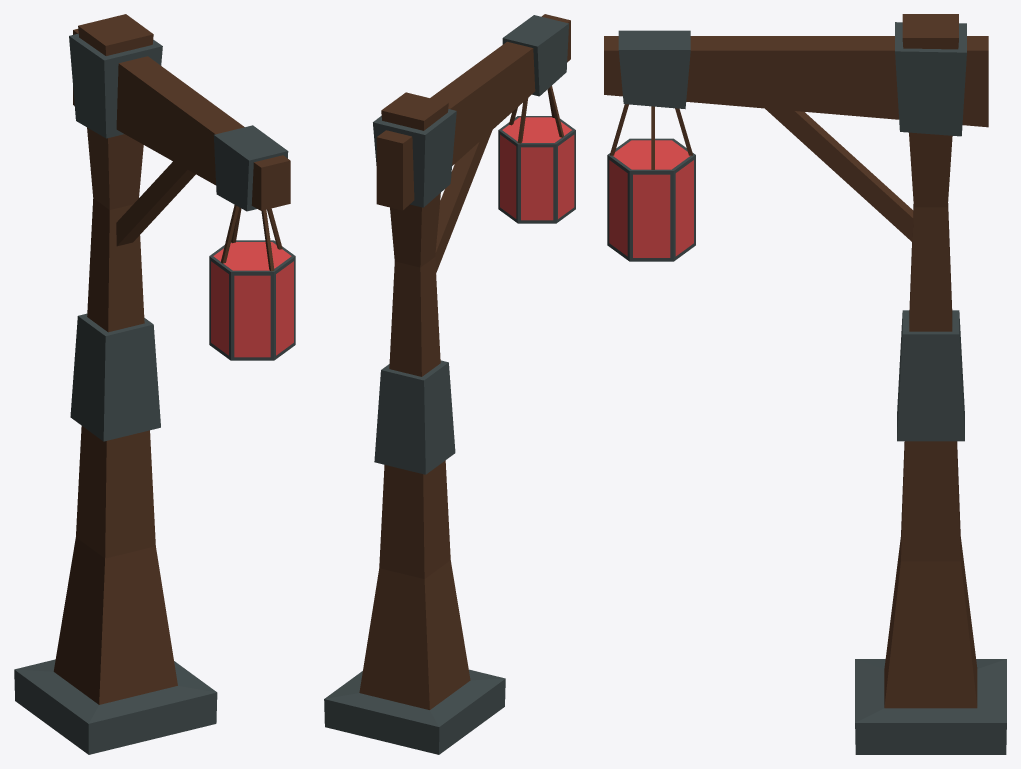
Rendered from Lamp_1_Red.fbx.
3 renders of one model, left to right at view 1: azimuth 30°, elevation 25°; view 2: azimuth 150°, elevation 25°; view 3: azimuth 270°, elevation 25°, orthographic. The views are drawn at different scales.
Visible parts, largest first — view 1: Lamp_1_Red; view 2: Lamp_1_Red; view 3: Lamp_1_Red.
Part boxes in pixels (<box>): Lamp_1_Red: <box>14,14,295,754</box>; Lamp_1_Red: <box>324,14,575,754</box>; Lamp_1_Red: <box>604,14,1006,754</box>.
Size of the model in its own units: 39.51 by 200 by 105.
